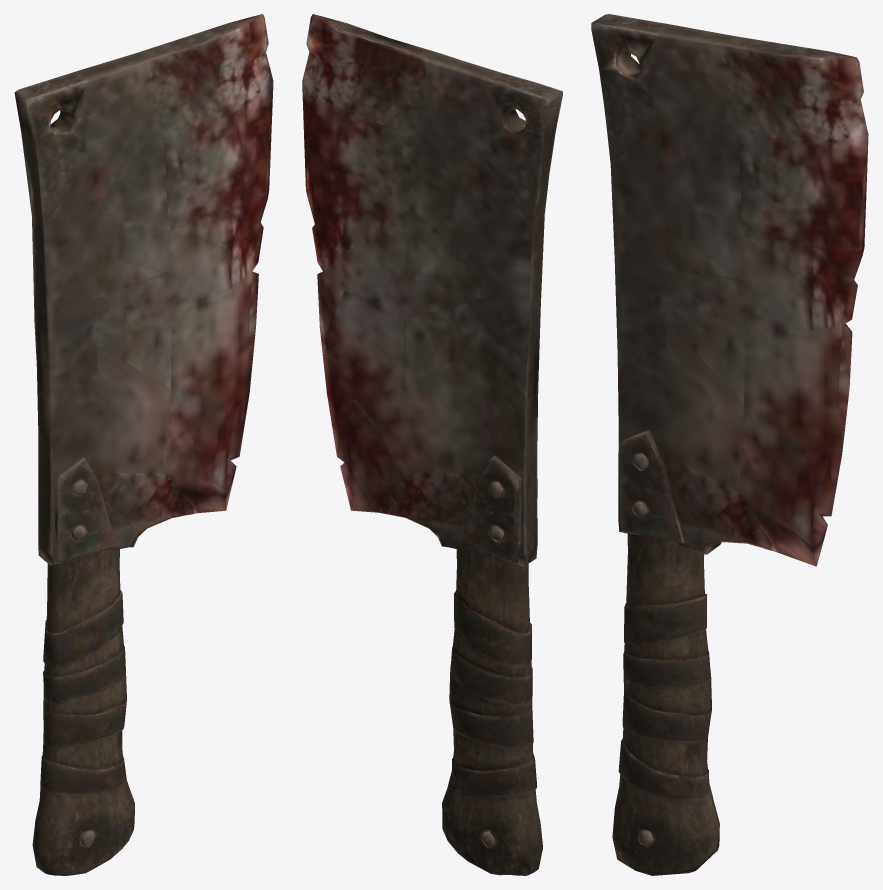
Rendered from w_cleaver.glb.
The picture shows the model from 3 angles, left to right: view 1: azimuth 30°, elevation 25°; view 2: azimuth 150°, elevation 25°; view 3: azimuth 330°, elevation 25°; orthographic projection. The views are drawn at different scales.
Parts seen in each view (by area): view 1: w_cleaver; view 2: w_cleaver; view 3: w_cleaver.
Boxes of the visible parts, x1,y1,x2,y2 form: w_cleaver: [14, 14, 273, 875]; w_cleaver: [302, 14, 562, 875]; w_cleaver: [591, 14, 868, 875].
Bounding box in the file's own units: 0.5658 × 1.72 × 0.1048.
Materials: 1 (1 with a texture image).
